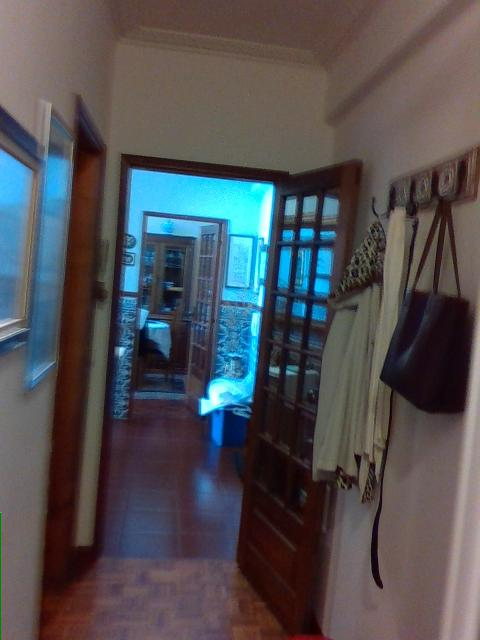door: (236, 159, 362, 634), (182, 224, 222, 419)
